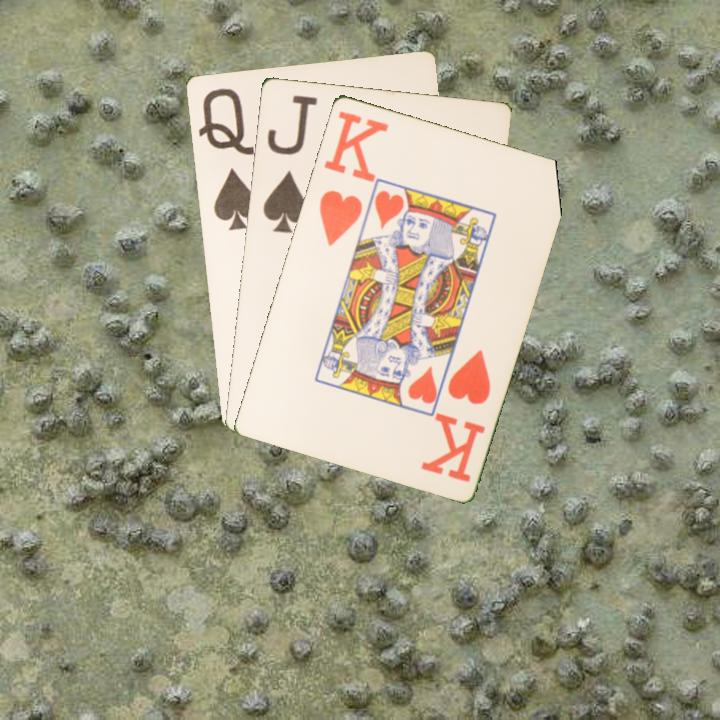Js: (259, 91, 320, 236)
Kh: (315, 106, 391, 249), (418, 345, 494, 485)
Qs: (194, 84, 260, 234)
